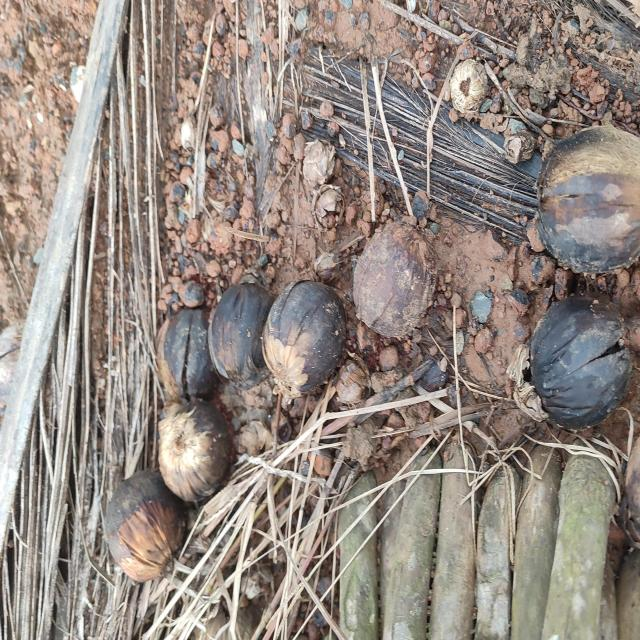damaged: (529, 296, 632, 429), (262, 281, 346, 399), (105, 470, 186, 582), (158, 400, 233, 502)
